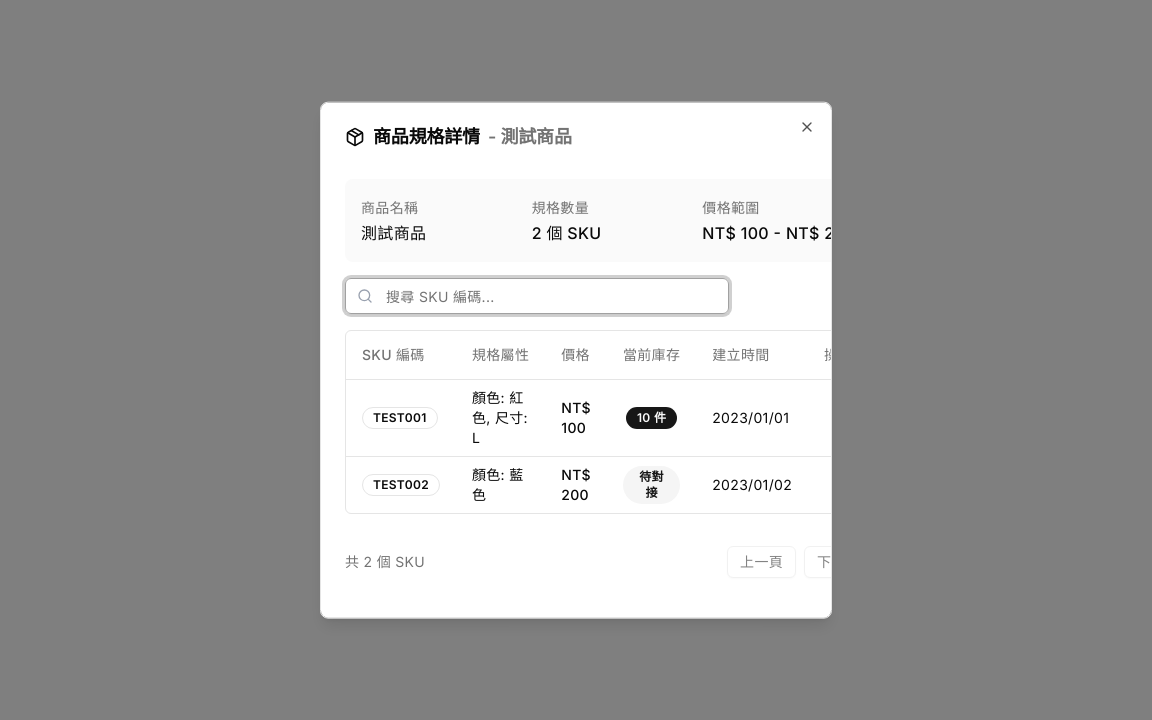
Test: VariantDetailsModal › should show no results message when search has no matches
This screenshot has width=1152, height=720.
Type "NONEXISTENT" into the field with placeholder "搜尋 SKU 編碼..." at [537, 296], box [345,278,729,314]
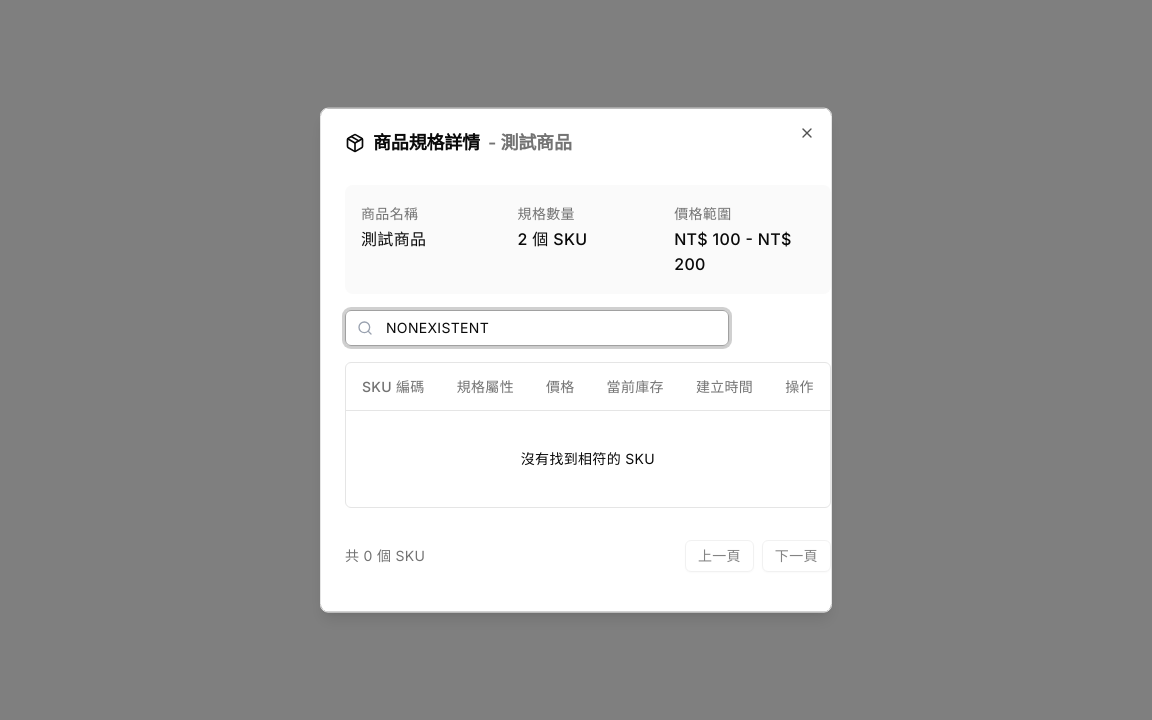
Result: the text "沒有找到相符的 SKU" is shown at [346,410,830,506]
